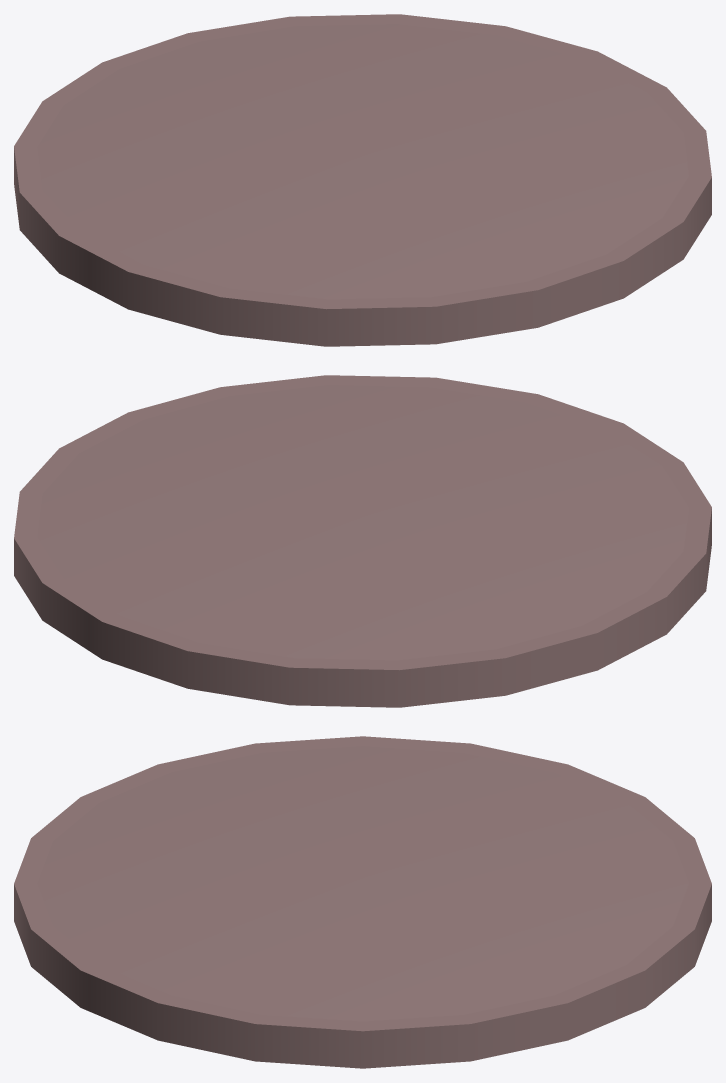
The model's file is sewer dwn cap.FBX.
The picture shows the model from 3 angles, top to bottom: view 1: azimuth 30°, elevation 25°; view 2: azimuth 150°, elevation 25°; view 3: azimuth 270°, elevation 25°; orthographic projection.
Parts seen in each view (by area): view 1: sewer002; view 2: sewer002; view 3: sewer002.
Boxes of the visible parts, box(x1,y1,x2,y2) form: sewer002: box(14, 14, 711, 346); sewer002: box(14, 375, 711, 707); sewer002: box(14, 736, 711, 1068).
Bounding box in the file's own units: 1.08 × 0.0824 × 1.08.
